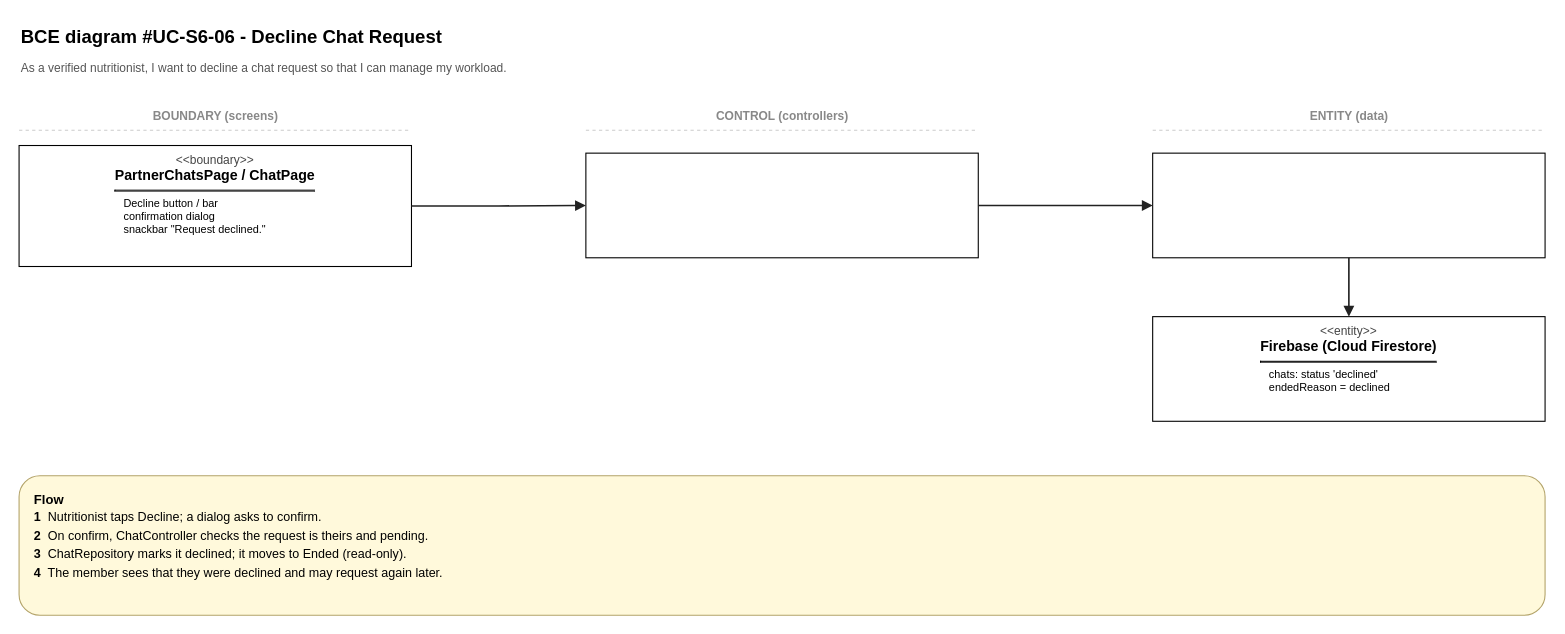
This 1565x634 diagram has some shape labels left out. Each missing label, with the box of its shape:
<<control>> ChatController declineRequest(sessionId, nutritionistId): (585, 152, 978, 258)
<<entity>> ChatRepository getThread(sessionId) declineRequest(sessionId): (1152, 152, 1545, 258)
